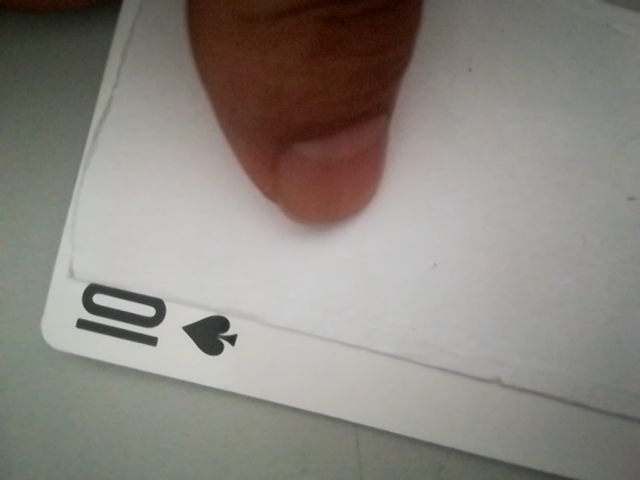ht 10: (51, 277, 253, 373)
